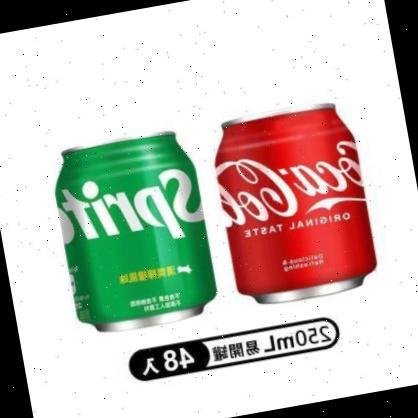can: (206, 94, 382, 308), (48, 128, 220, 335)
